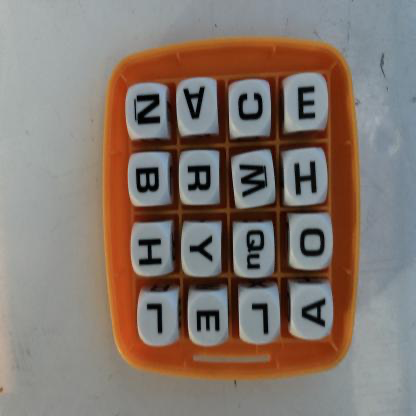a: (293, 285, 335, 338), (179, 83, 219, 134)
b: (131, 154, 171, 204)
c: (230, 83, 271, 136)
e: (284, 78, 329, 131), (189, 292, 230, 345)
h: (282, 153, 325, 205), (133, 225, 171, 275)
l: (239, 290, 282, 343), (139, 294, 180, 347)
n: (130, 86, 169, 137)
o: (290, 215, 332, 270)
qu: (234, 223, 275, 274)
r: (180, 154, 221, 207)
w: (232, 158, 275, 209)
y: (185, 224, 223, 278)
